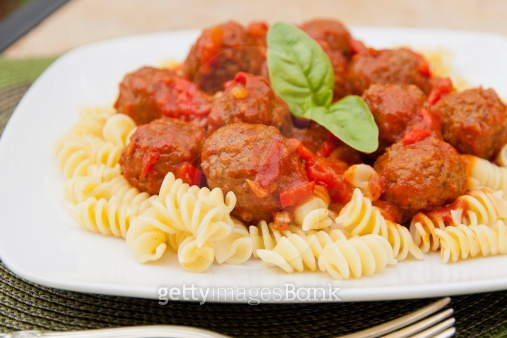meatballs: (167, 31, 445, 183)
plain spaghetti: (115, 185, 252, 257)
